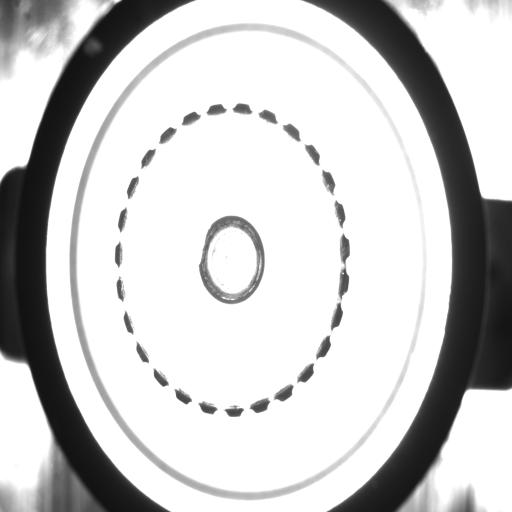gear: (110, 98, 355, 421)
